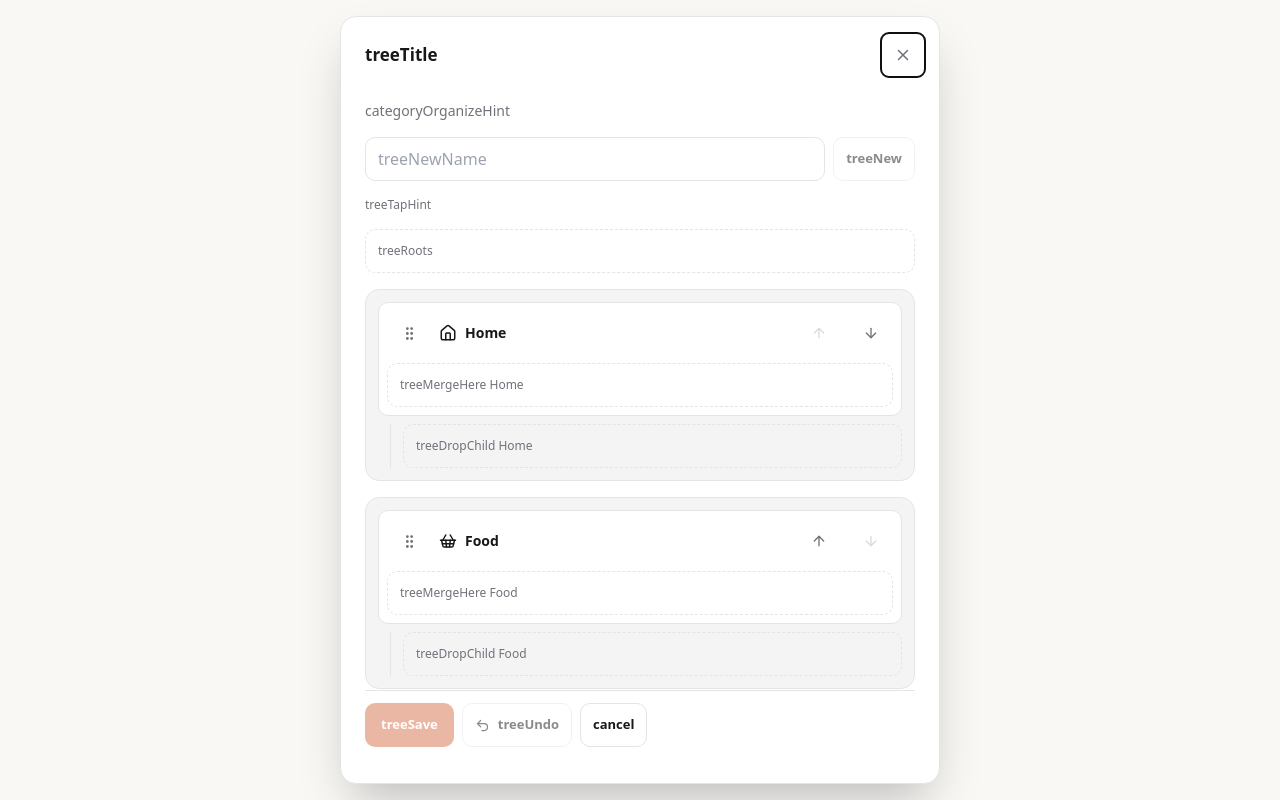
Test case: undoes draft moves without writing
Click the button named "treeDrag Food": point(409, 541) top-left (387, 519), bottom-right (431, 563)
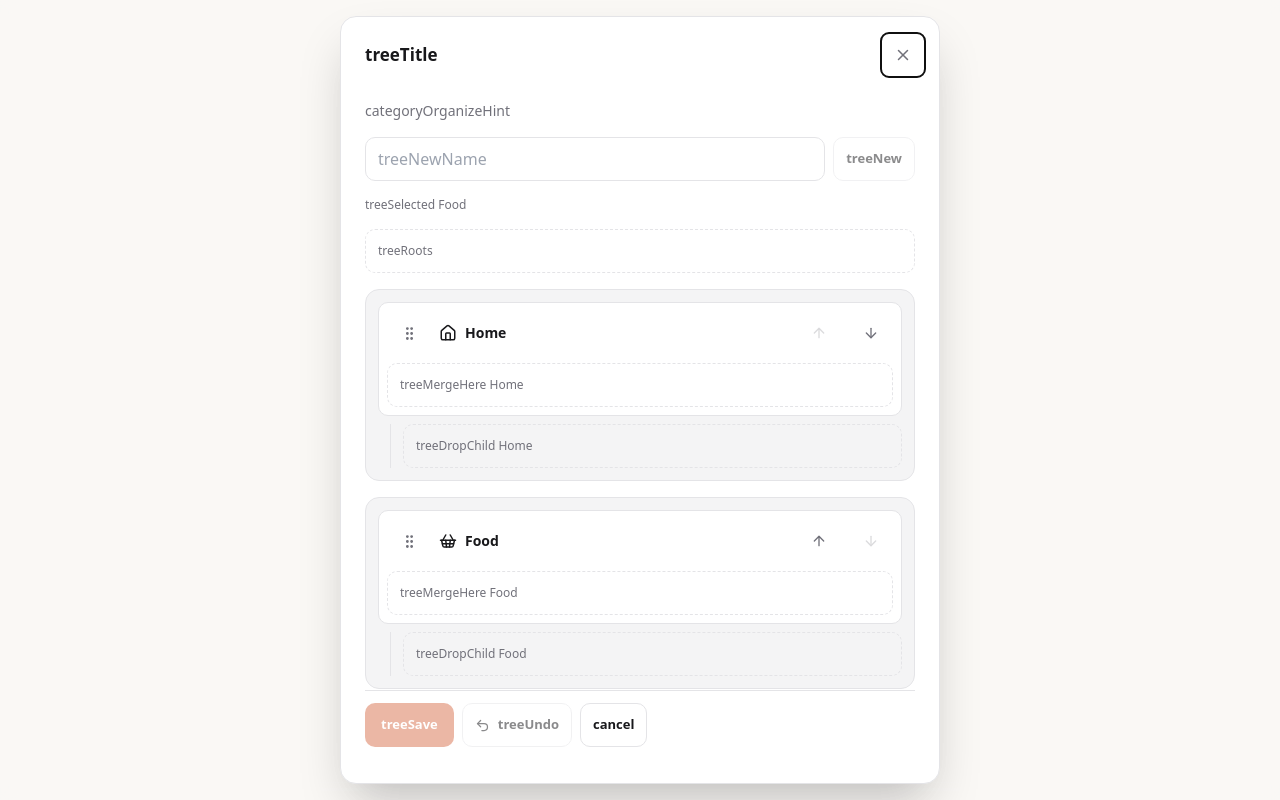
Click the button "treeDropChild Home": point(474, 446) top-left (403, 424), bottom-right (902, 468)
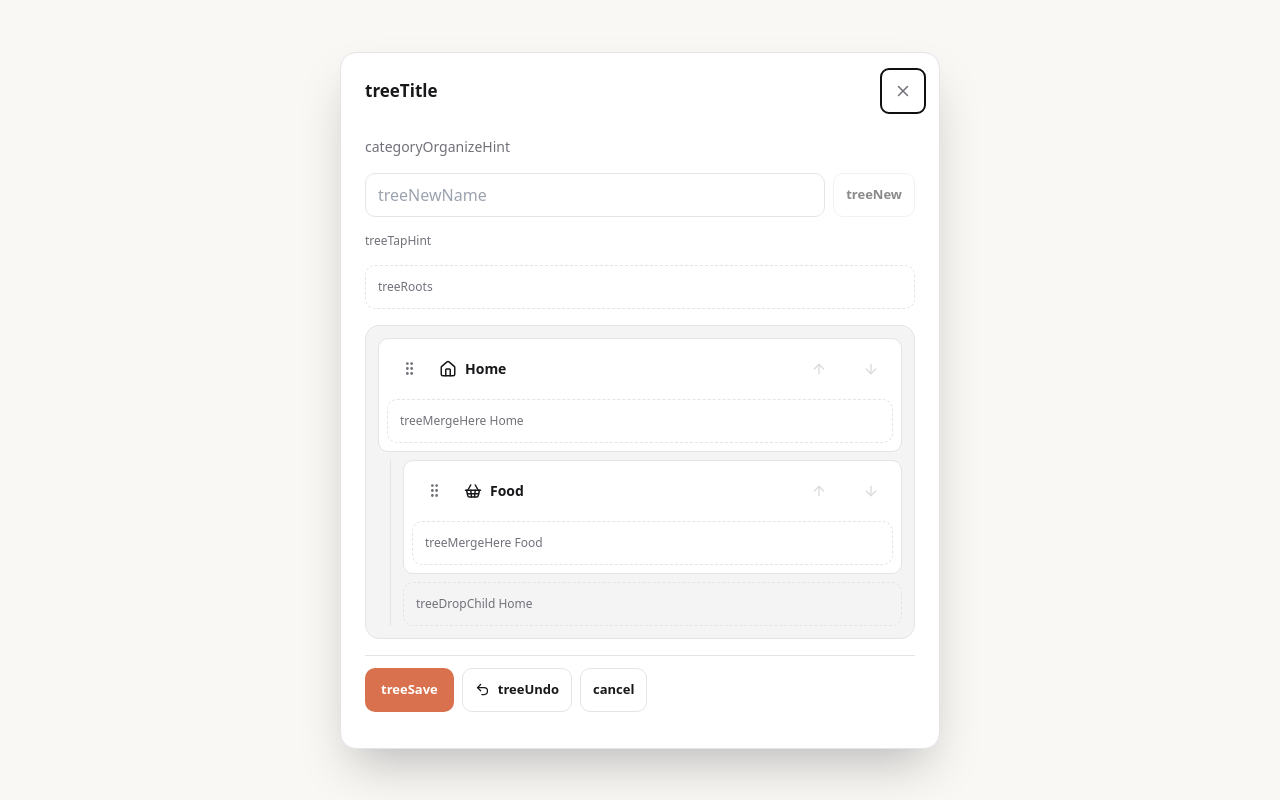
Click the button "treeUndo": point(517, 690) top-left (462, 668), bottom-right (572, 712)
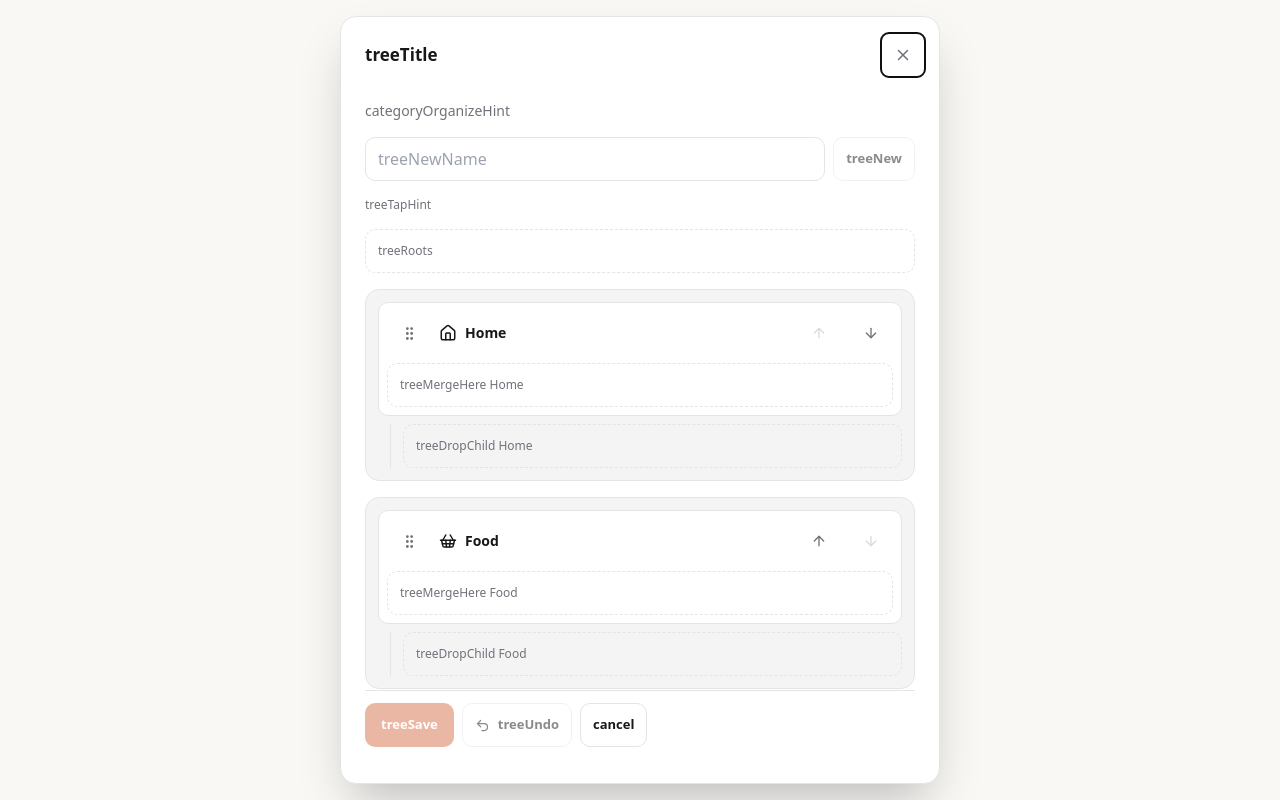
Expected: the button "treeRoots" is shown, top-left (365, 229), bottom-right (915, 273)
Expected: the button "treeSave" is disabled, top-left (365, 703), bottom-right (454, 747)
